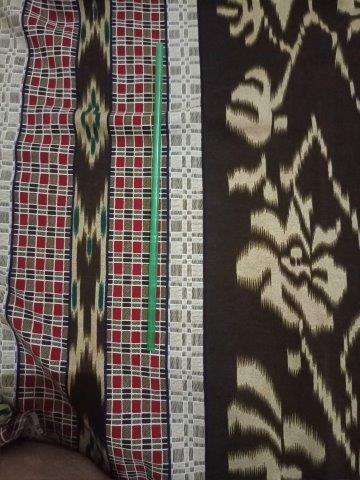sedotan: (147, 43, 163, 350)
